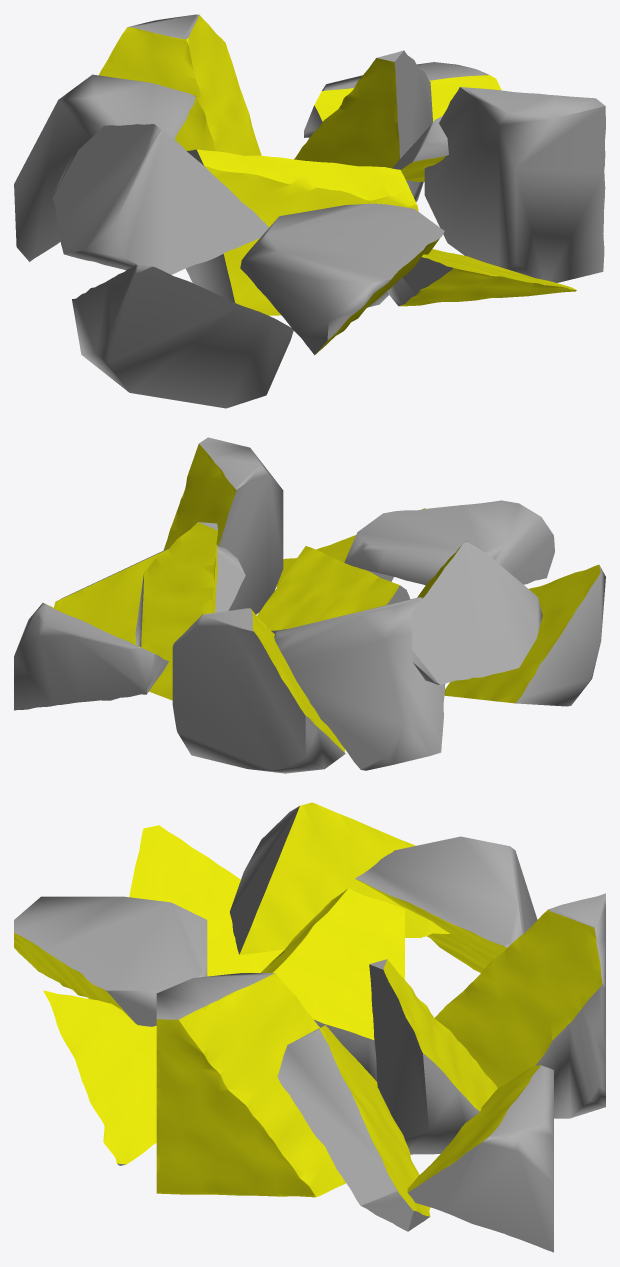
File: EscombrosExport.fbx
3 renders of one model, top to bottom at view 1: azimuth 30°, elevation 25°; view 2: azimuth 150°, elevation 25°; view 3: azimuth 270°, elevation 25°, orthographic. The views are drawn at different scales.
Visible parts, largest first — view 1: shard6, shard7, shard2, shard5, shard3, shard12, shard9, shard8, shard1, shard4, shard10; view 2: shard12, shard9, shard7, shard5, shard6, shard4, shard2, shard8, shard3, shard10, shard1; view 3: shard6, shard12, shard5, shard4, shard7, shard10, shard9, shard8, shard3, shard1, shard2.
Part boxes in pixels (bbox=[...]): shard6: bbox=[424, 87, 605, 282]; shard7: bbox=[52, 124, 268, 274]; shard2: bbox=[72, 265, 293, 408]; shard5: bbox=[240, 203, 444, 355]; shard3: bbox=[186, 149, 418, 315]; shard12: bbox=[99, 14, 261, 155]; shard9: bbox=[14, 74, 195, 261]; shard8: bbox=[294, 50, 432, 201]; shard1: bbox=[387, 249, 576, 306]; shard4: bbox=[304, 62, 501, 137]; shard10: bbox=[392, 116, 448, 181]; shard12: bbox=[172, 608, 345, 773]; shard9: bbox=[274, 597, 445, 770]; shard7: bbox=[411, 541, 542, 684]; shard5: bbox=[344, 500, 554, 585]; shard6: bbox=[164, 437, 283, 614]; shard4: bbox=[14, 603, 168, 710]; shard2: bbox=[444, 564, 605, 706]; shard8: bbox=[135, 522, 217, 700]; shard3: bbox=[257, 546, 409, 633]; shard10: bbox=[54, 544, 245, 644]; shard1: bbox=[276, 508, 425, 587]; shard6: bbox=[156, 973, 345, 1197]; shard12: bbox=[435, 893, 605, 1118]; shard5: bbox=[14, 896, 207, 1026]; shard4: bbox=[407, 1064, 553, 1252]; shard7: bbox=[230, 802, 449, 954]; shard10: bbox=[277, 1025, 430, 1231]; shard9: bbox=[355, 836, 537, 972]; shard8: bbox=[369, 959, 497, 1154]; shard3: bbox=[261, 888, 404, 1081]; shard1: bbox=[43, 990, 156, 1165]; shard2: bbox=[129, 825, 283, 976].
Size of the model in its own units: 9.33 by 3.79 by 8.08.
